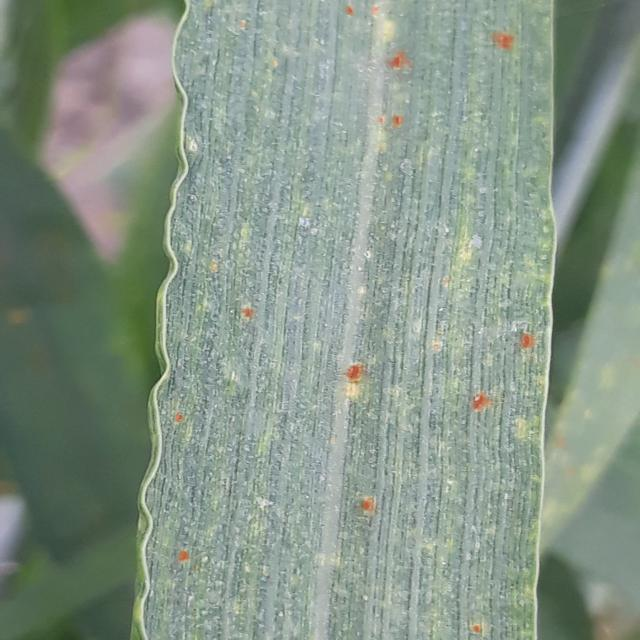orang_rust: (125, 0, 566, 640)
